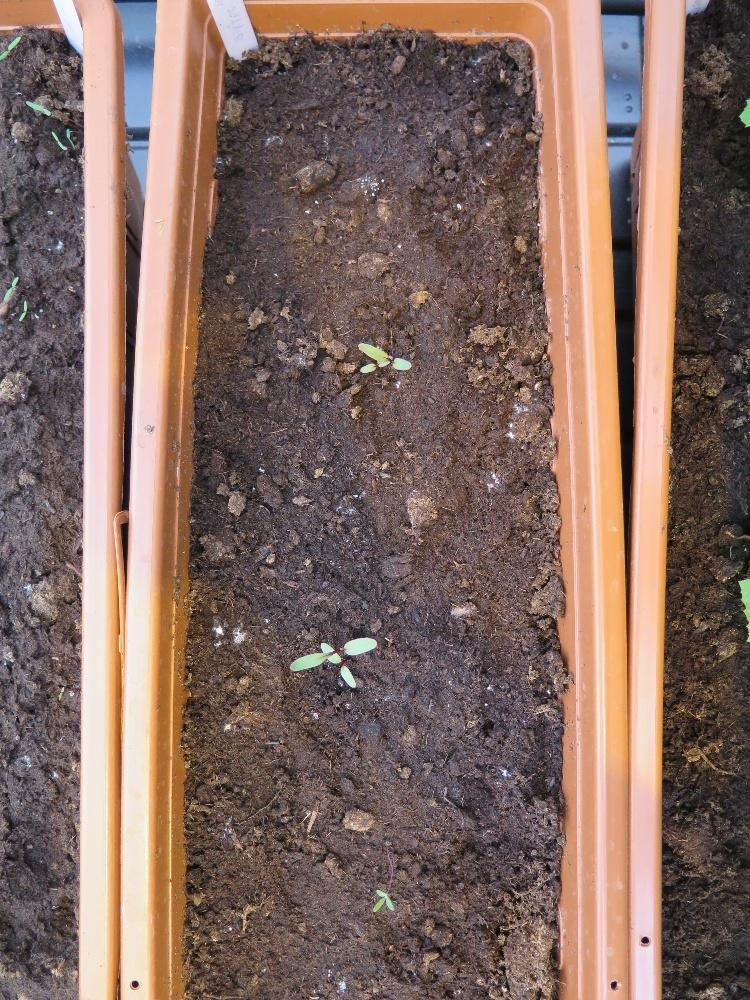weed: (371, 887, 393, 913)
